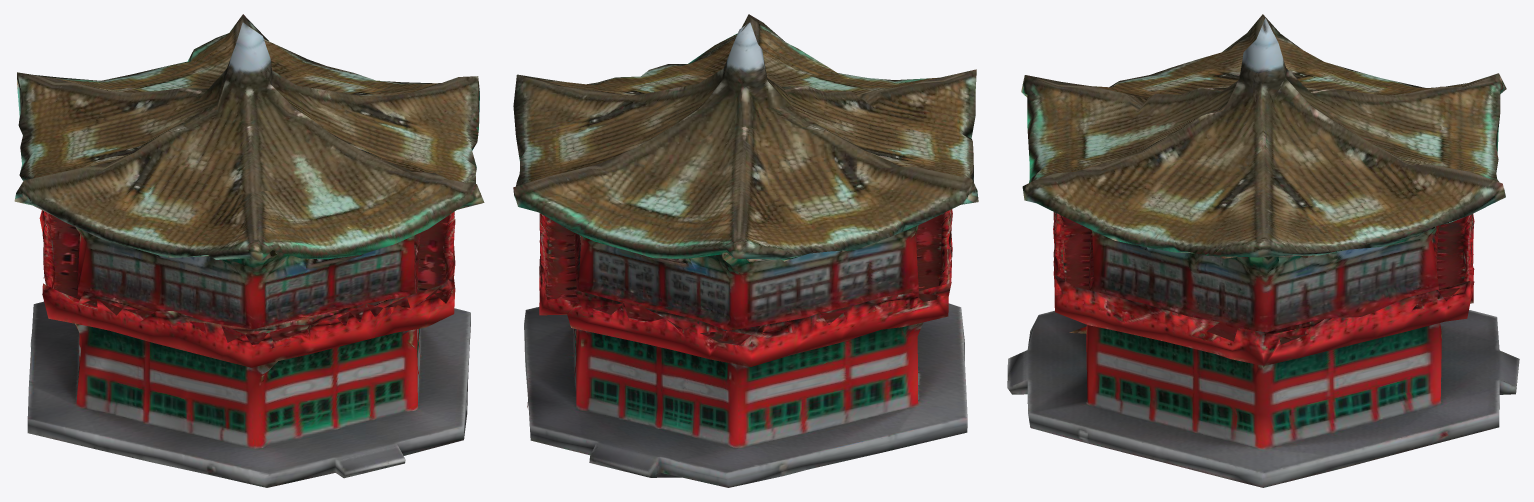
Rendered from palgakjeong.glb.
3 renders of one model, left to right at view 1: azimuth 30°, elevation 25°; view 2: azimuth 150°, elevation 25°; view 3: azimuth 270°, elevation 25°, orthographic.
Visible parts, largest first — view 1: Mesh1.0; view 2: Mesh1.0; view 3: Mesh1.0.
Part boxes in pixels (x1,y1,x2,y2): Mesh1.0: [14, 14, 484, 487]; Mesh1.0: [513, 14, 978, 487]; Mesh1.0: [1007, 14, 1519, 487].
Size of the model in its own units: 1.9 by 1.4 by 1.81.
1 material, 1 textured.
